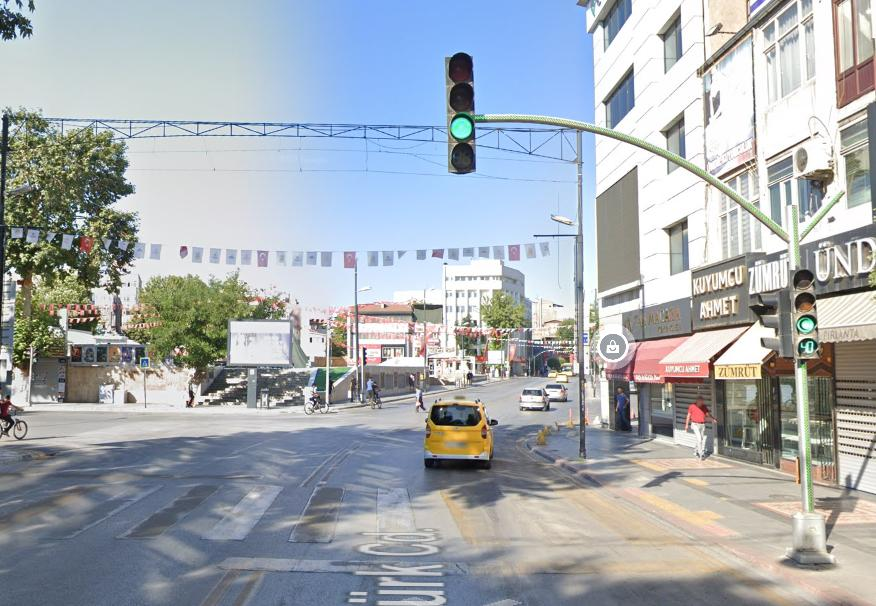greenlight: (442, 54, 479, 172), (794, 268, 821, 357)
